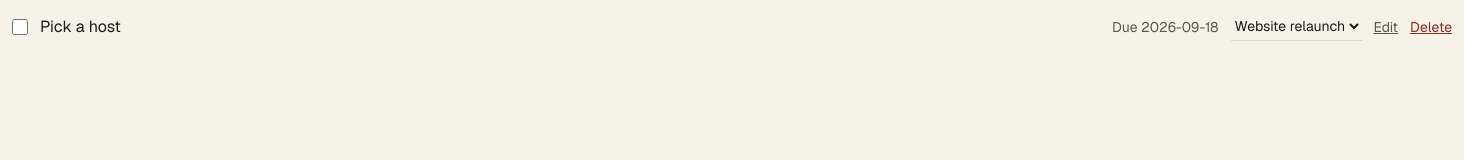
Test: TaskList › takes a due date off a task
Click the button named "Edit “Pick a host”". click: (1386, 26)
box: [1374, 16, 1398, 36]
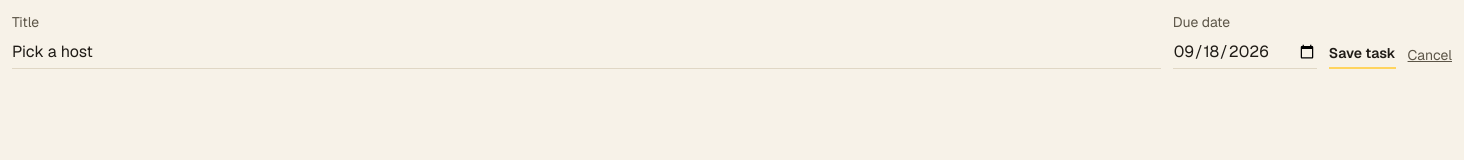
Clear the date field labelled "Due date". click: (1245, 52)
box: [1173, 36, 1317, 69]
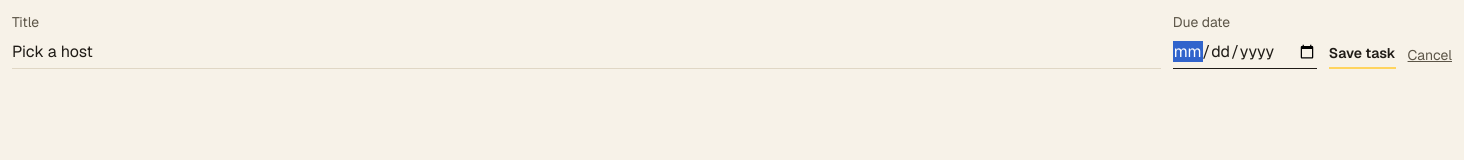
Click the button "Save task". click: (1362, 54)
box: [1329, 39, 1396, 69]
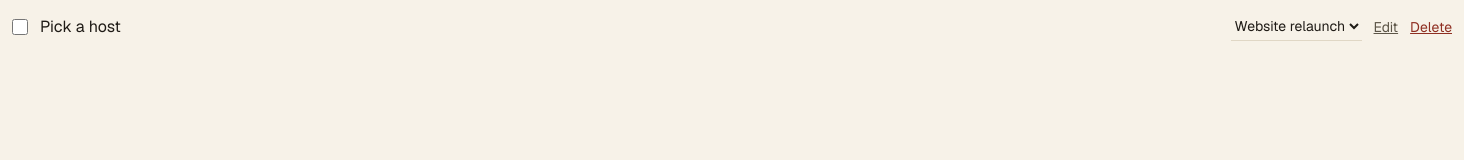
Now the text "Due " is gone
